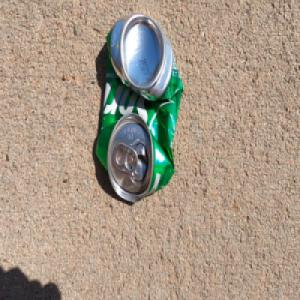SodaCan: (96, 18, 184, 204)
